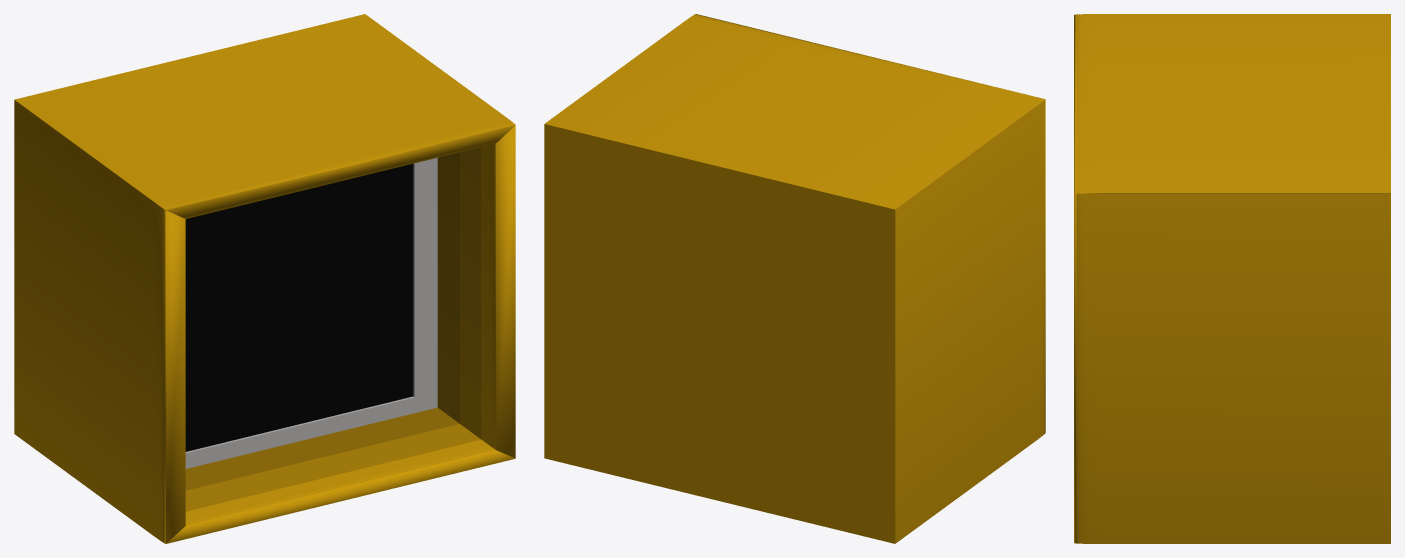
Rendered from Frame10_gold.glb.
3 renders of one model, left to right at view 1: azimuth 30°, elevation 25°; view 2: azimuth 150°, elevation 25°; view 3: azimuth 270°, elevation 25°, orthographic. The views are drawn at different scales.
Visible parts, largest first — view 1: Box046_Material #25_0, Box046_Material #26_0, A_PaintingMesh, Box046_Frame_0; view 2: Box046_Material #25_0; view 3: Box046_Material #25_0.
Part boxes in pixels (left/top/right/bottom): Box046_Material #25_0: left=14, top=14, right=515, bottom=543; Box046_Material #26_0: left=186, top=148, right=480, bottom=510; A_PaintingMesh: left=185, top=164, right=413, bottom=451; Box046_Frame_0: left=185, top=157, right=437, bottom=468; Box046_Material #25_0: left=544, top=14, right=1045, bottom=543; Box046_Material #25_0: left=1074, top=14, right=1390, bottom=543.
Bounding box in the file's own units: 1.34 × 1.22 × 1.
Materials: 4 (1 with a texture image).
